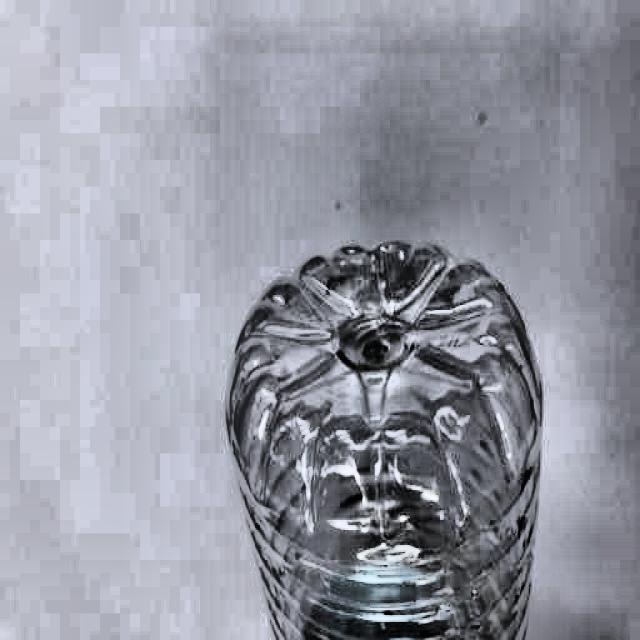plastic: (229, 249, 544, 640)
